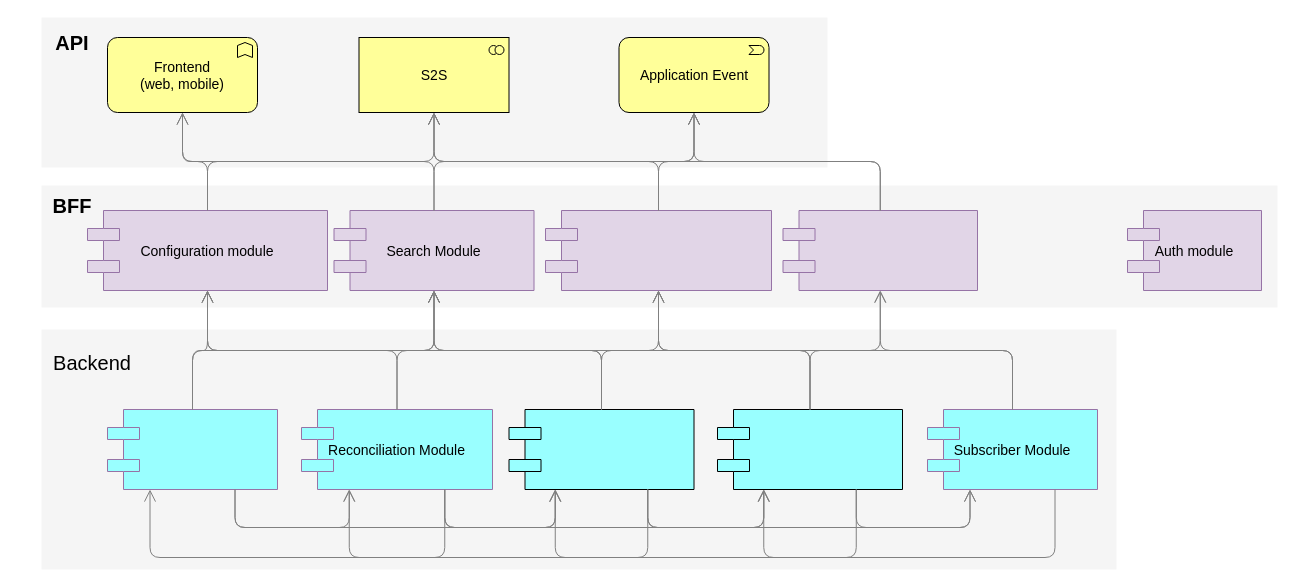
This 1294x587 diagram has some shape labels left out. The centre of each missing label's shape, as x and y in pixels:
"ChangeProposal Module" goes at (x=880, y=250).
"Import Module" goes at (x=601, y=449).
"Specification Module" goes at (x=809, y=449).
"Subscription Module" goes at (x=658, y=250).
"Synonym Module" goes at (x=192, y=449).
